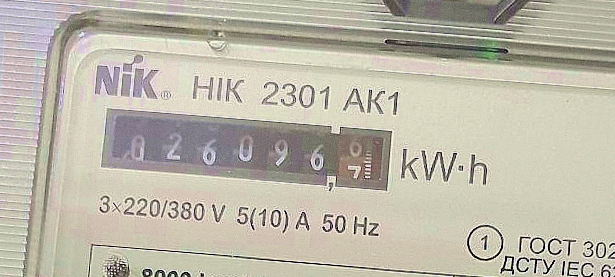0: (234, 129, 256, 166), (126, 129, 148, 162)
2: (161, 128, 185, 164)
6: (198, 133, 220, 169), (306, 138, 327, 173), (344, 131, 366, 160)
7: (344, 160, 363, 183)
9: (269, 135, 291, 169)
screen: (90, 97, 401, 202)
